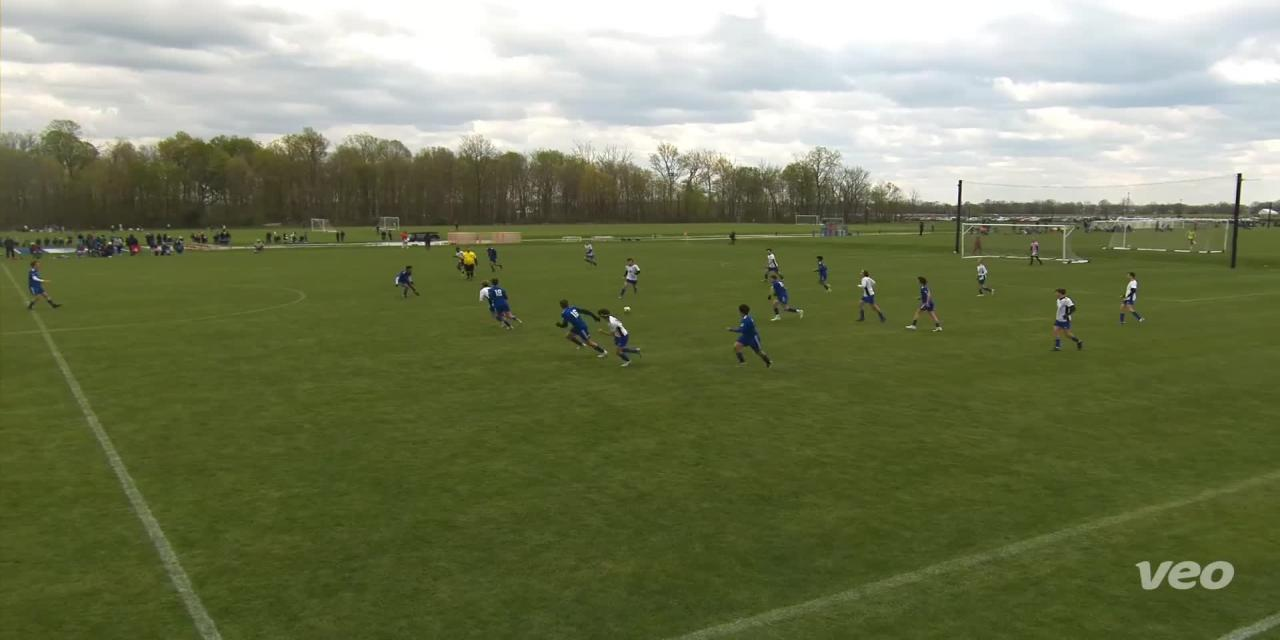goal: (946, 213, 1100, 280)
sports ball: (616, 296, 642, 320)
